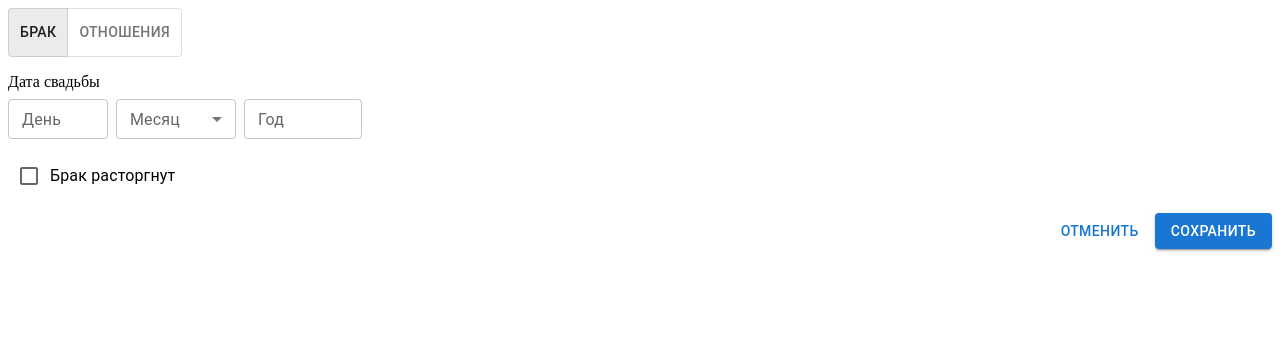
Test: MarriageRelationForm › shows divorce date when divorced toggled
Click the checkbox labelled "Брак расторгнут": point(96, 176) [17, 164, 175, 188]
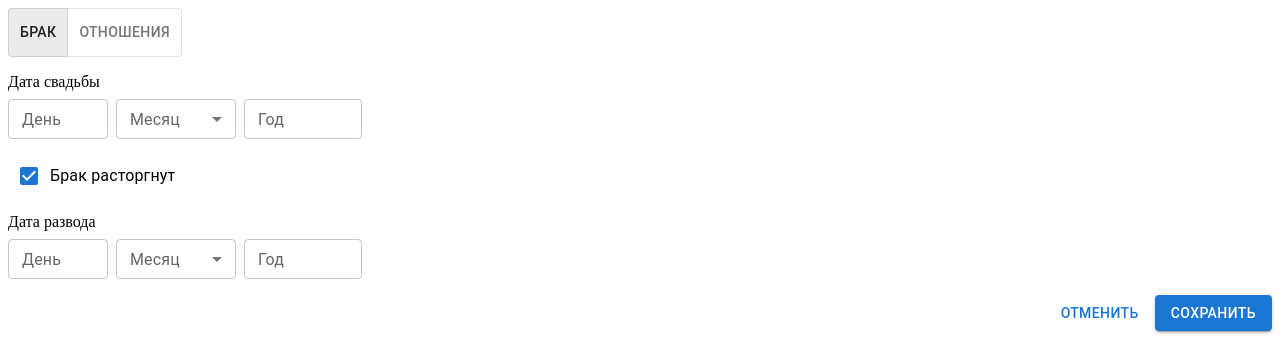
Check: the text "Дата развода" is shown, box [8, 212, 96, 230]
